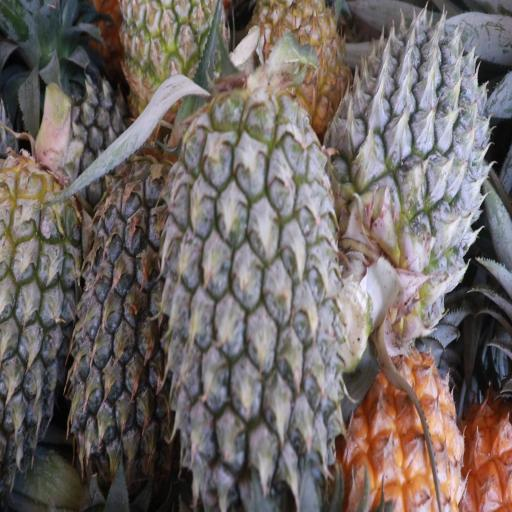------------------------------: (122, 0, 228, 103)
Pineapple - v8 v1: (344, 343, 465, 512), (247, 0, 345, 121)
